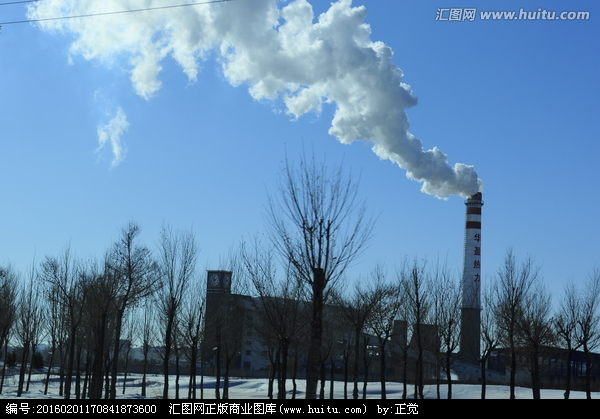dust: (302, 17, 487, 205)
